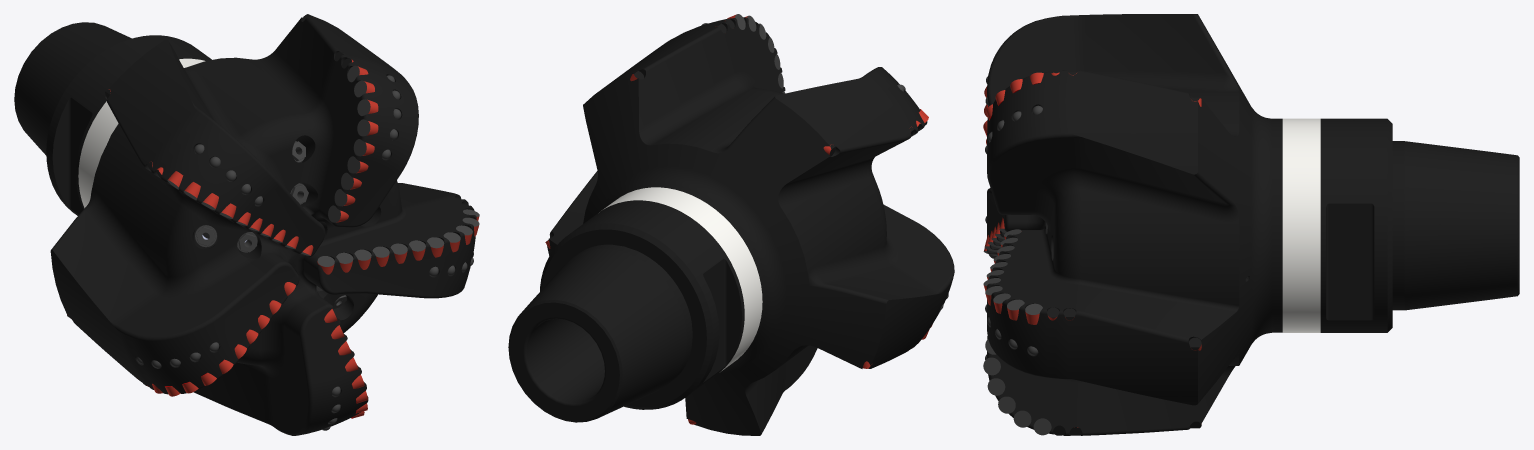
3 renders of one model, left to right at view 1: azimuth 30°, elevation 25°; view 2: azimuth 150°, elevation 25°; view 3: azimuth 270°, elevation 25°, orthographic. The views are drawn at different scales.
Visible parts, largest first — view 1: Body1 (×3); view 2: Body1 (×3); view 3: Body1 (×3).
Part boxes in pixels (x1,y1,x2,y2): Body1 (×3): (14, 16, 476, 435); Body1 (×3): (508, 17, 954, 435); Body1 (×3): (987, 14, 1519, 435).
Size of the model in its own units: 0.4443 by 0.4336 by 0.5629.
